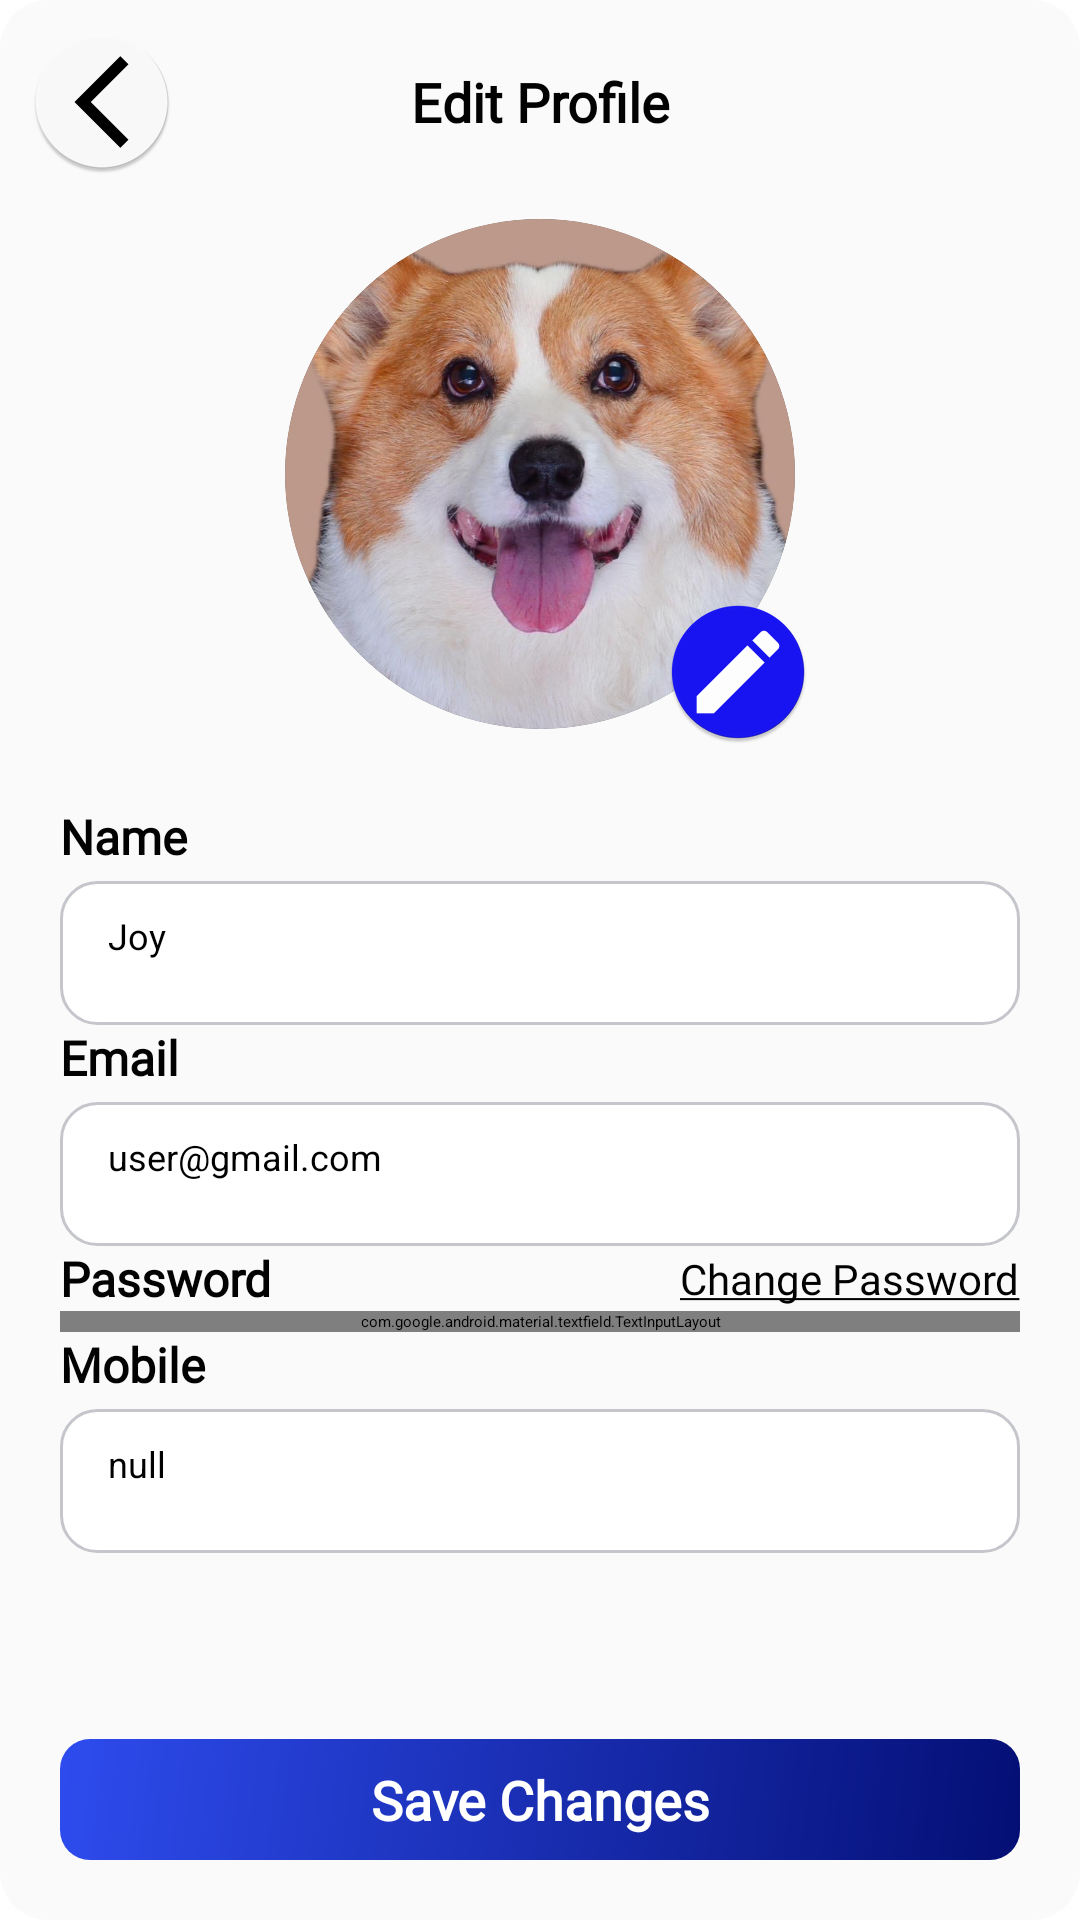

Screen size 1080×1920. Icon name, then its box in pixels as region(x1, y1, x2, y2):
Back: region(37, 56, 169, 171)
